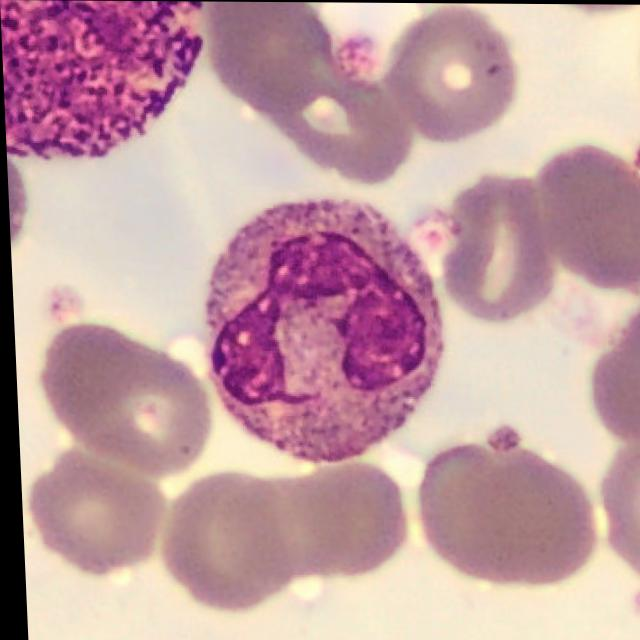Neutrofilo segmentado: (200, 199, 443, 463)
